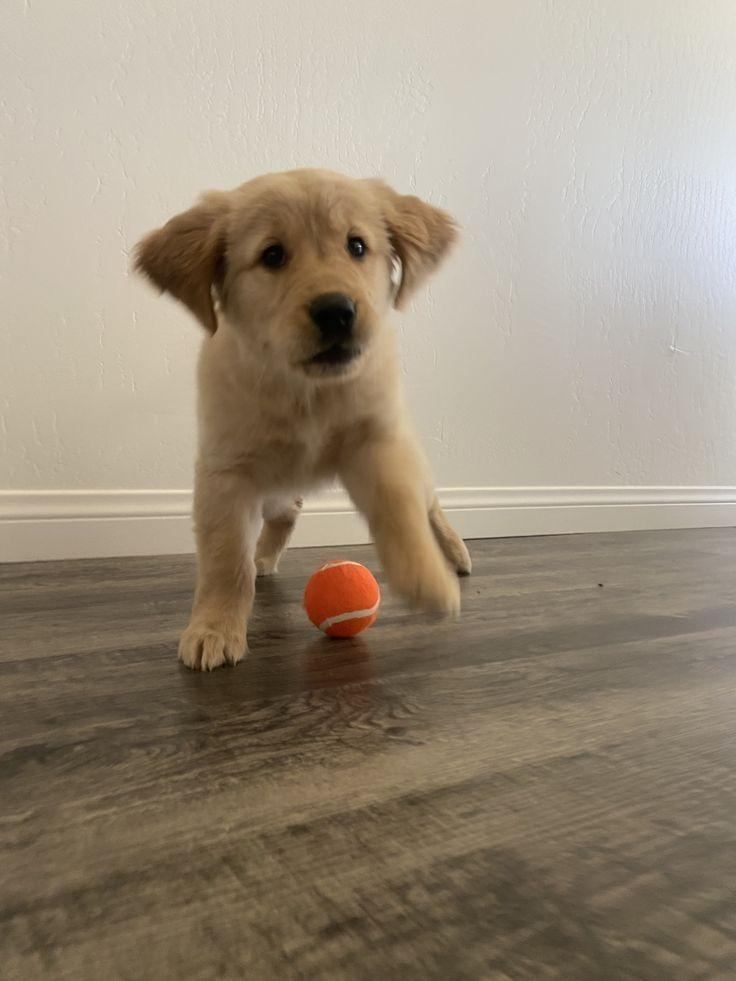puppy-dog: (128, 168, 474, 673)
